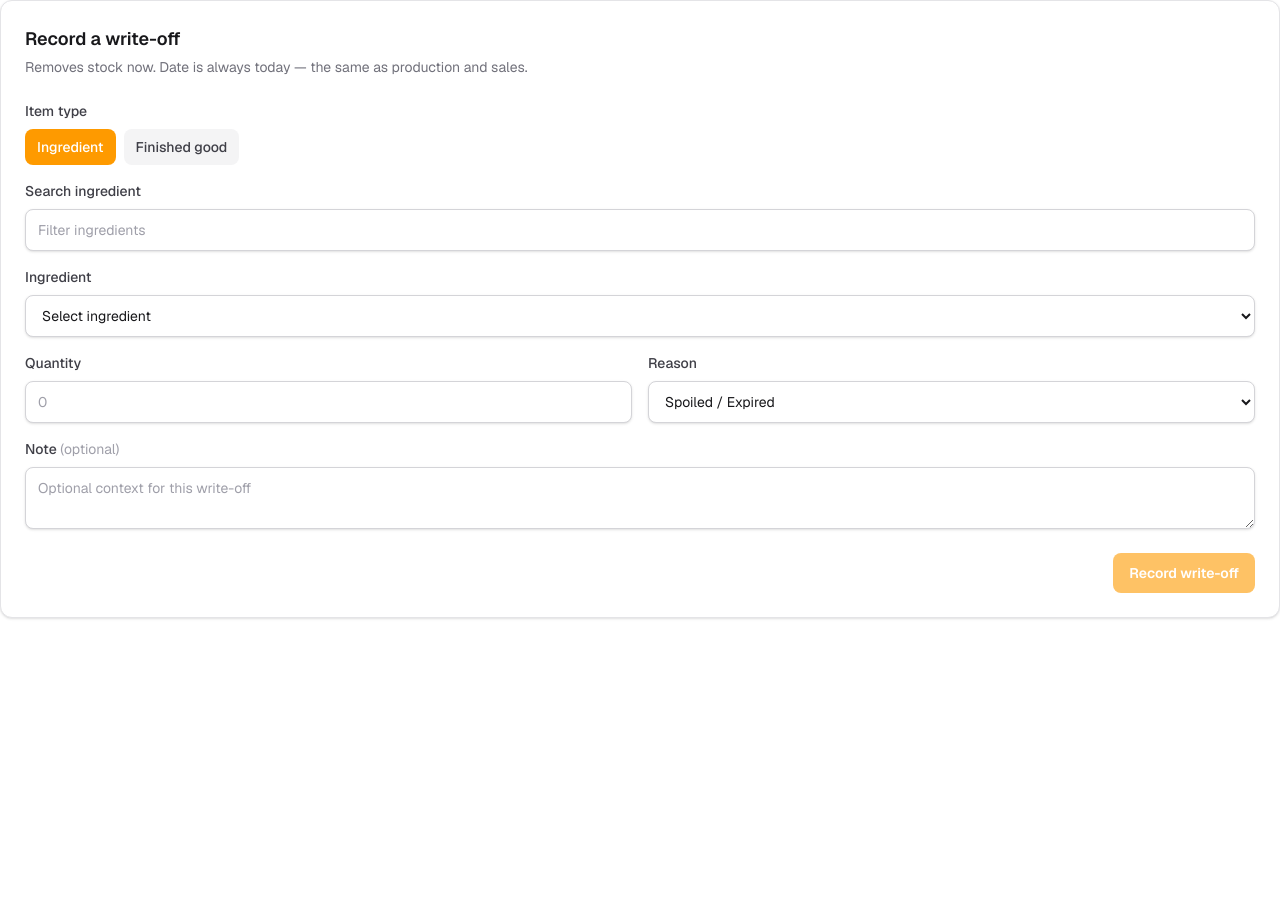
Test: WriteOffForm › shows the selected finished good's yield_unit beside the quantity field
Click the button "Finished good" at (182, 147), box [124,129,239,165]
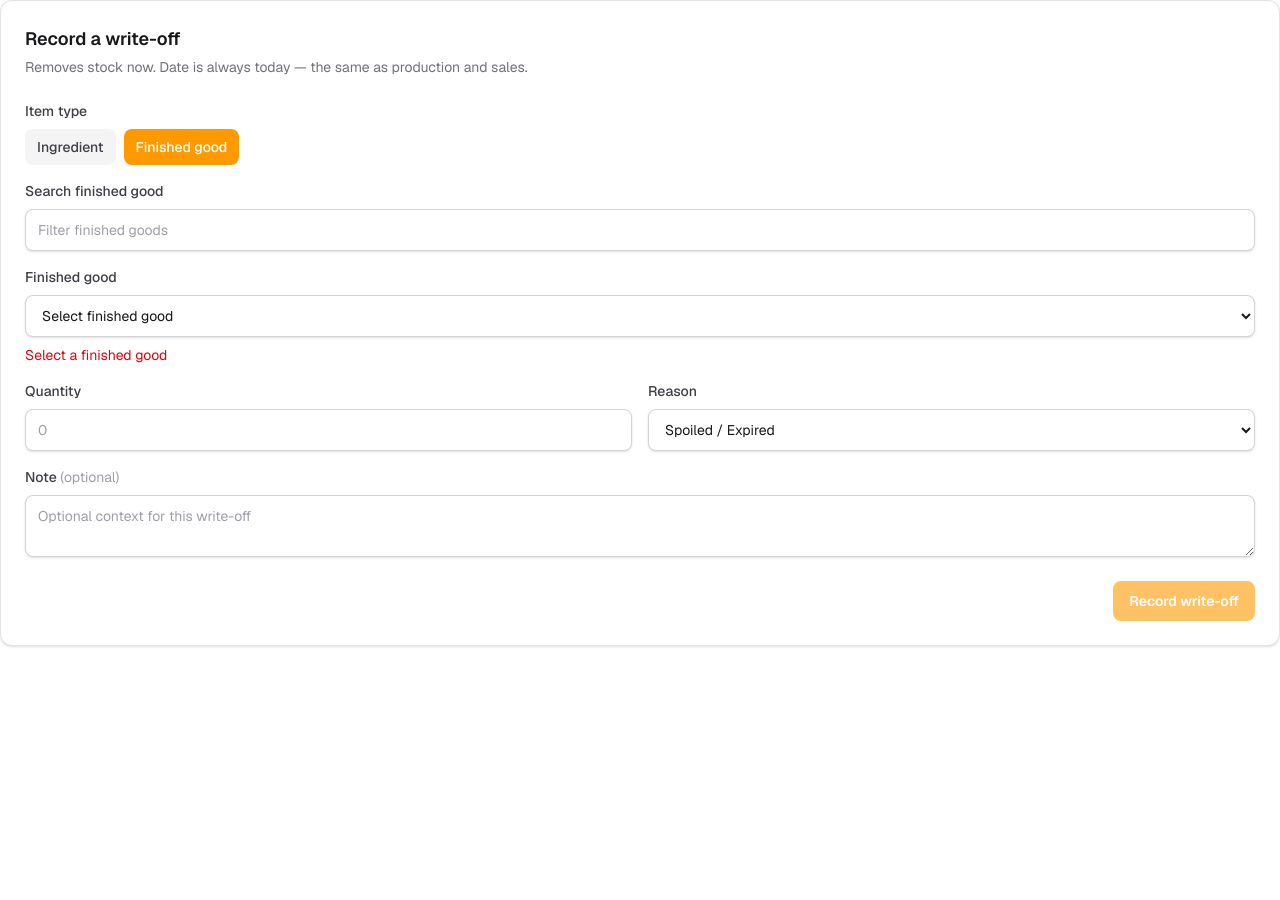
Select "Chicken Crepe (pcs)" in the dropdown labelled "Finished good" at (640, 316), box [25,295,1255,337]
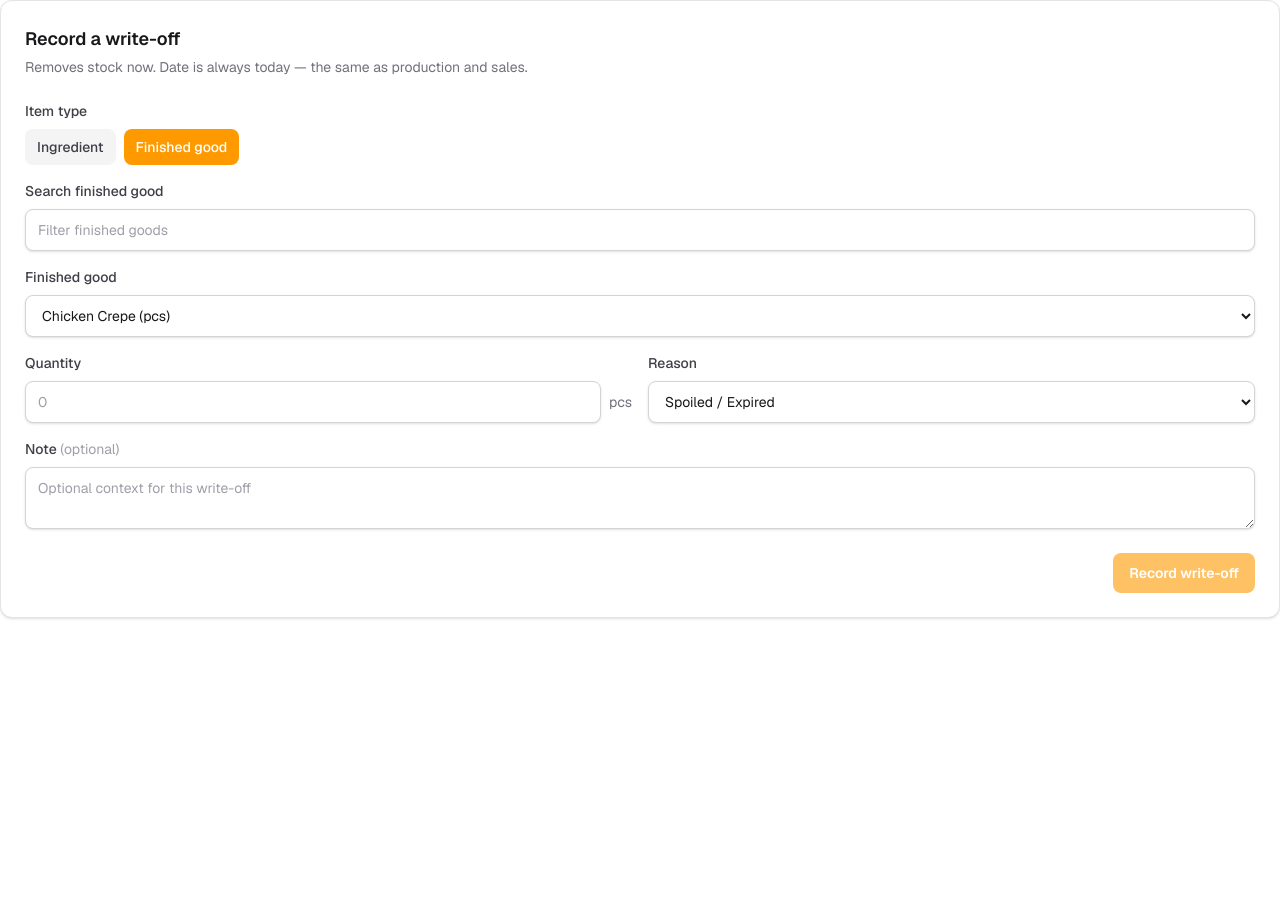
Now the text "pcs" is shown, box [609,392,632,412]
